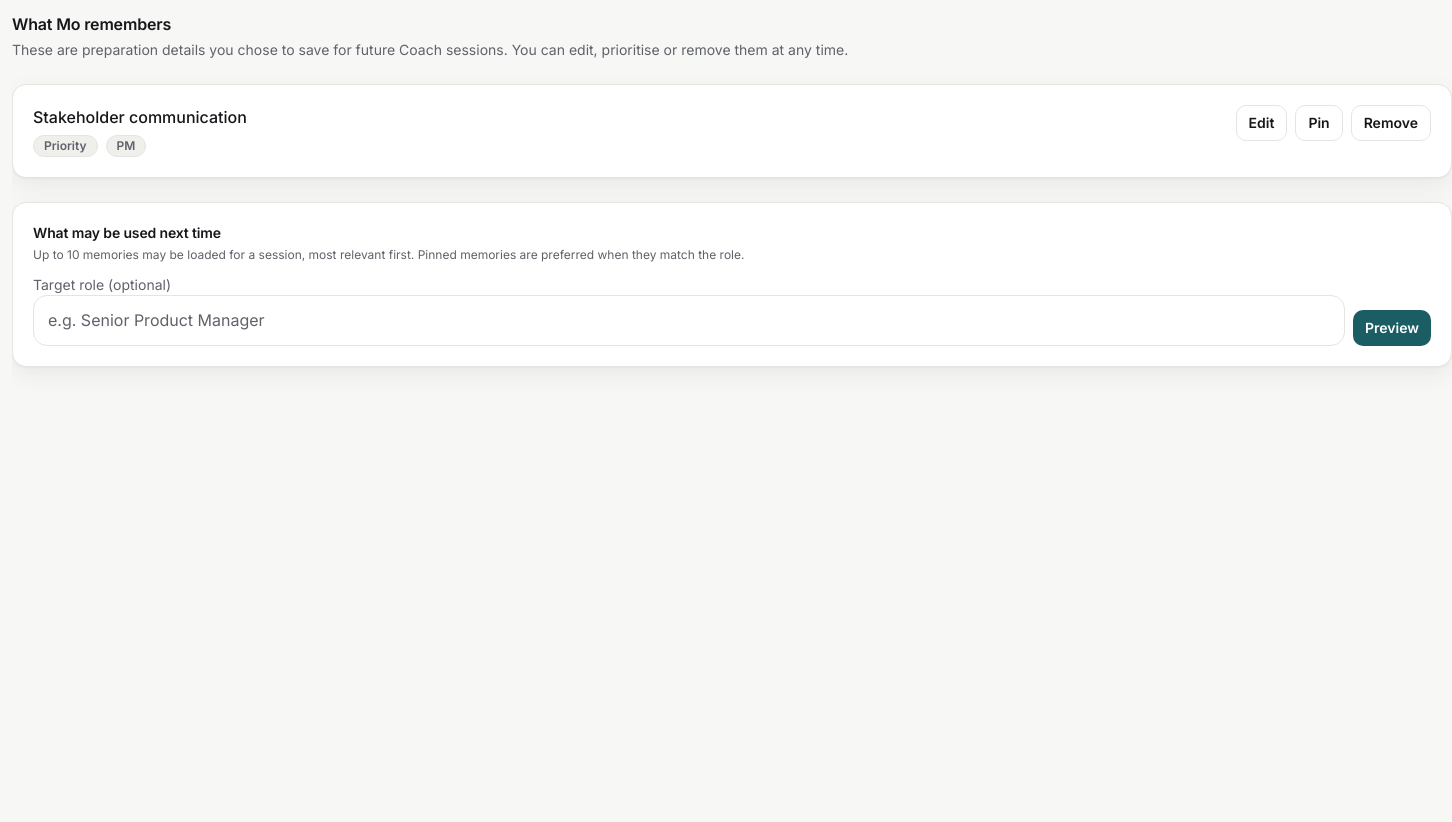
it: MemoryManager › opens and cancels the edit form
This screenshot has width=1452, height=822.
Click the button with aria-label "Edit saved memory": x=1262, y=123 [1236, 105, 1287, 141]
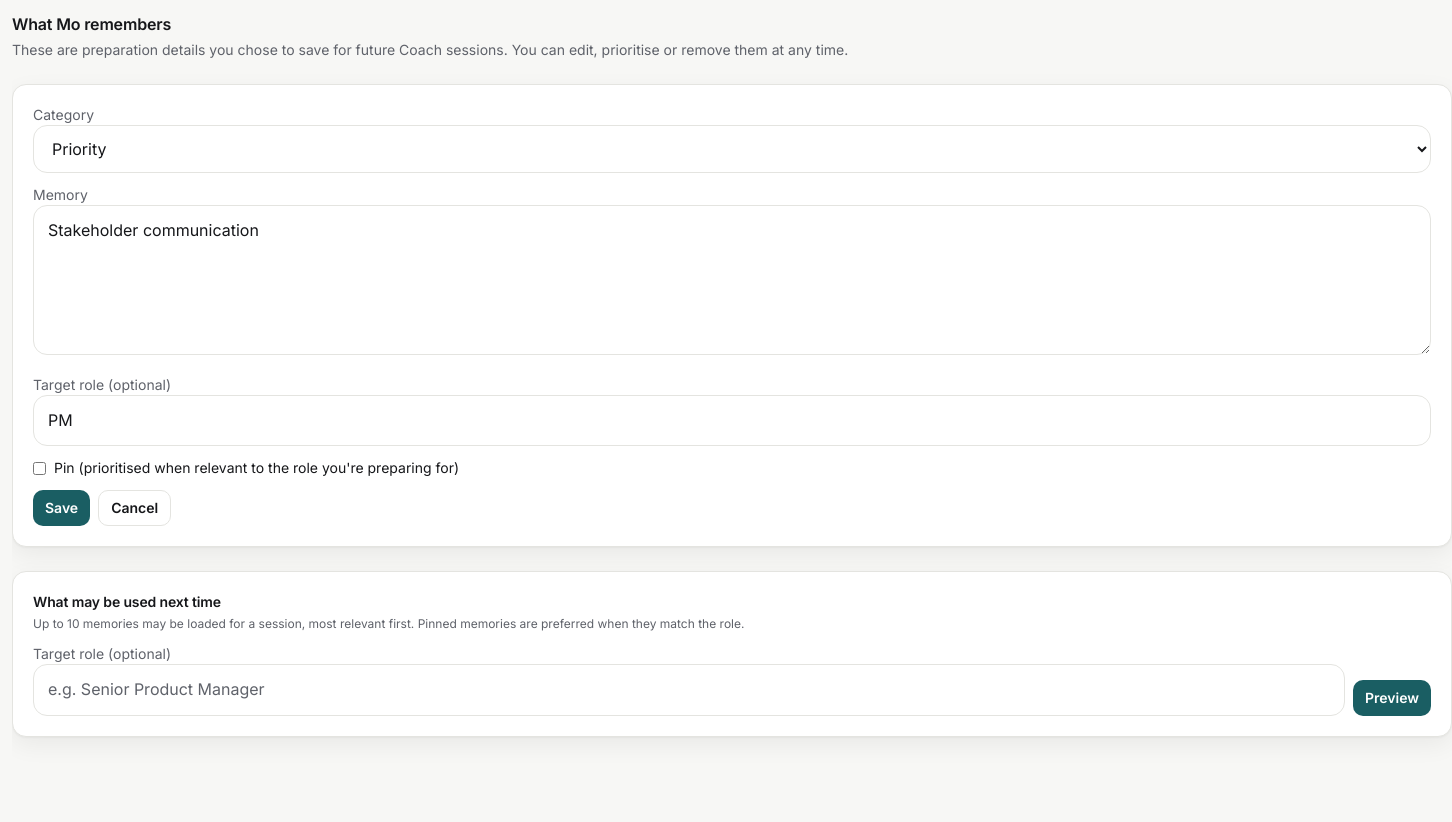
expect the text box labelled "Memory" is shown: met, box [33, 205, 1431, 355]
Click the button "Cancel": x=135, y=508 [98, 490, 171, 526]
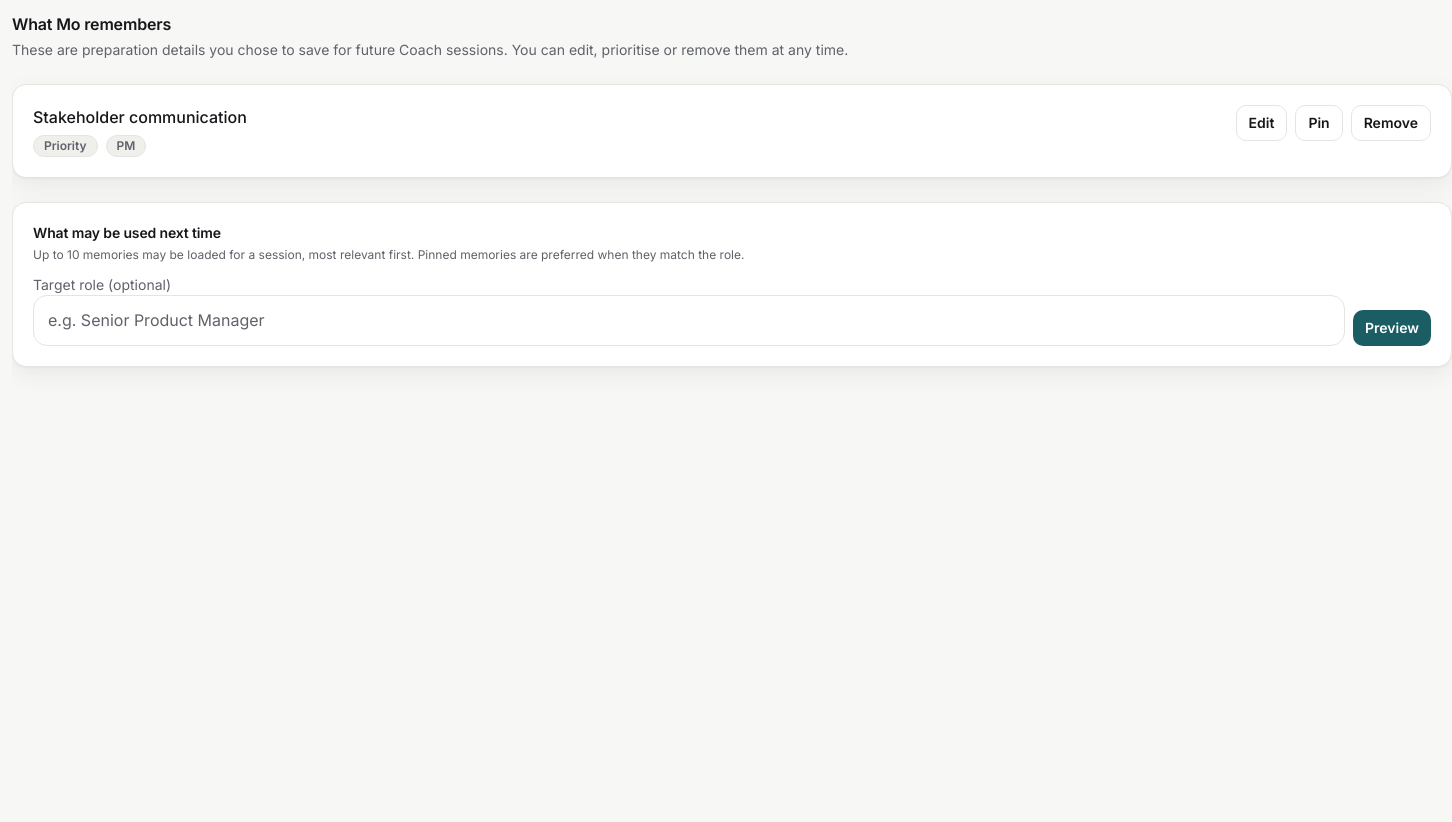
expect the label labelled "Memory" is gone: met
